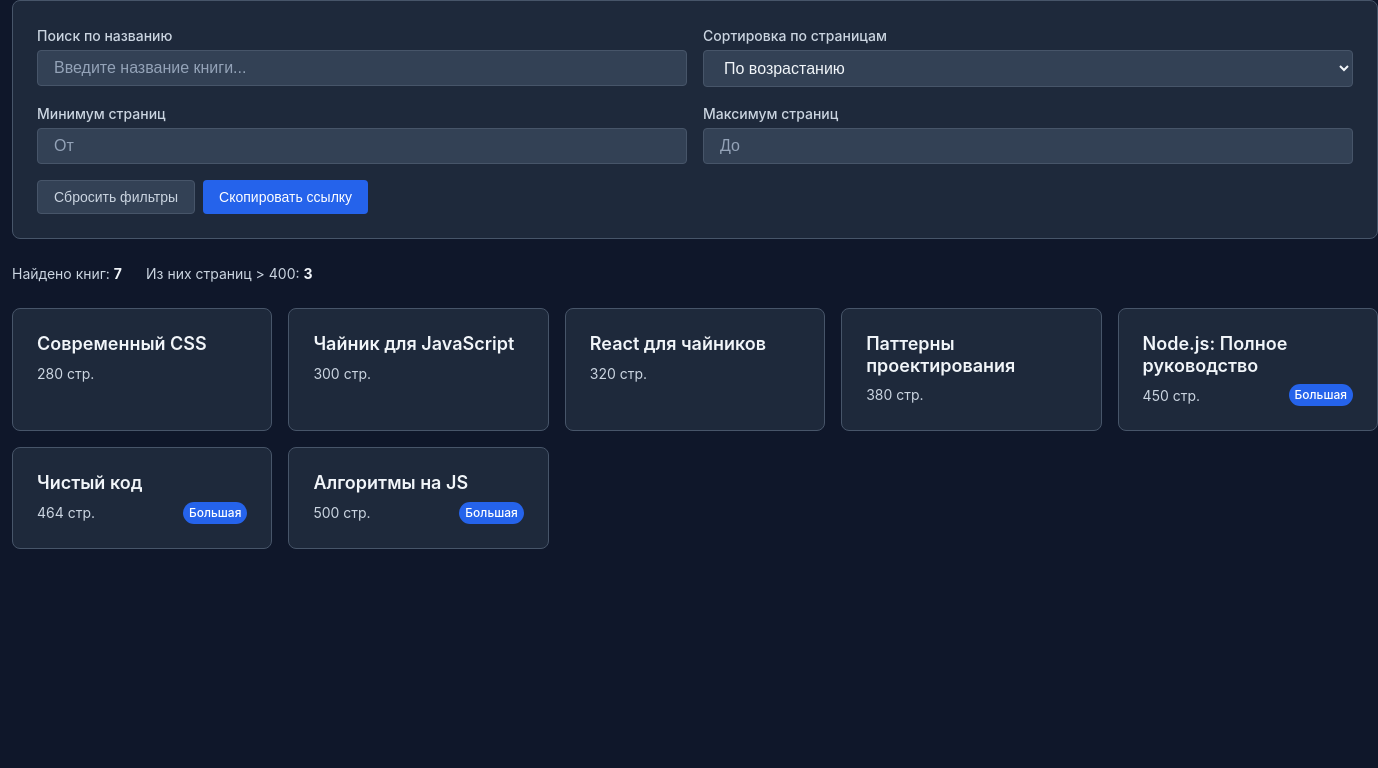
Test case: BookList › поиск по подстроке работает без учёта регистра
Симуляция ввода текста 'react' в поле поиска
Type "react" into the field named "Поиск книг по названию" at (362, 68), box [37, 50, 687, 86]
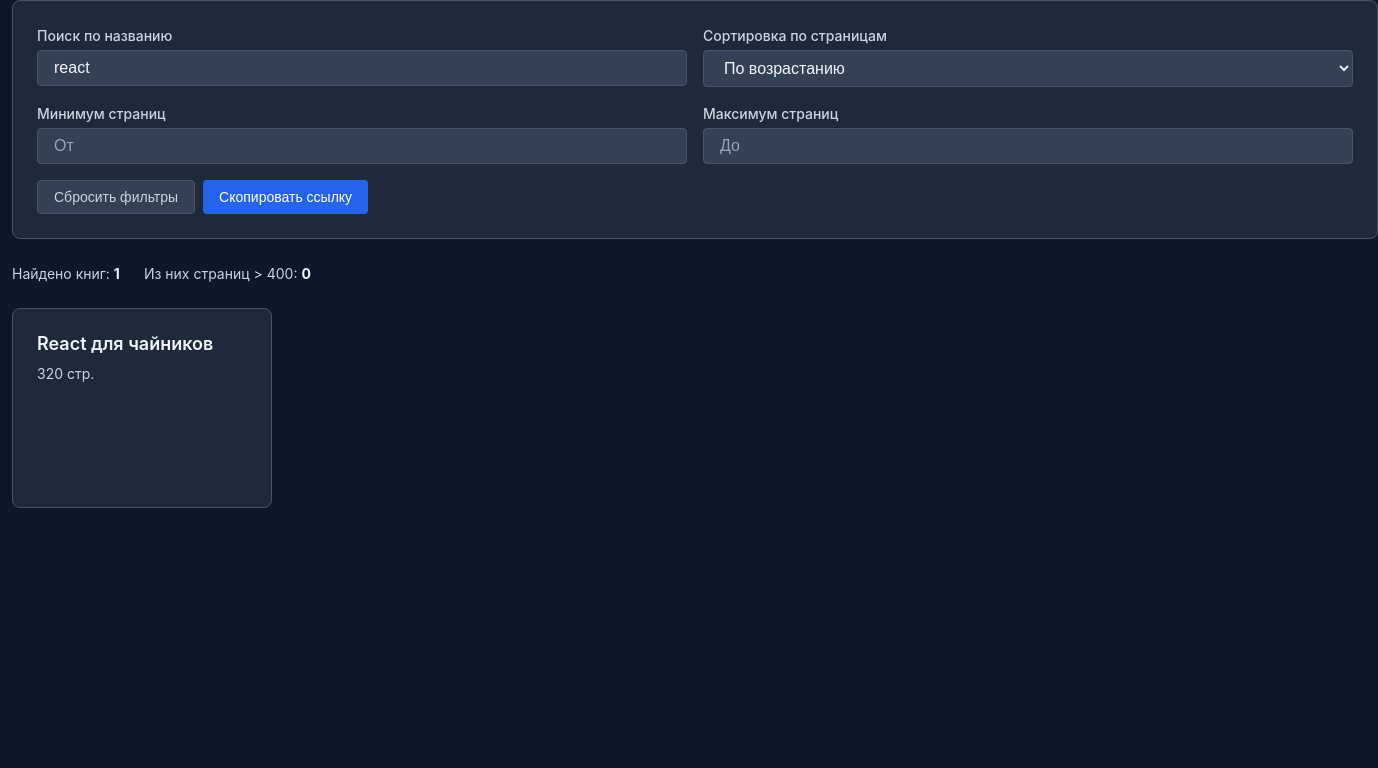
Expected: the heading "React для чайников" is shown, [37, 333, 213, 354]
Expected: the heading "Чайник для JavaScript" is gone
